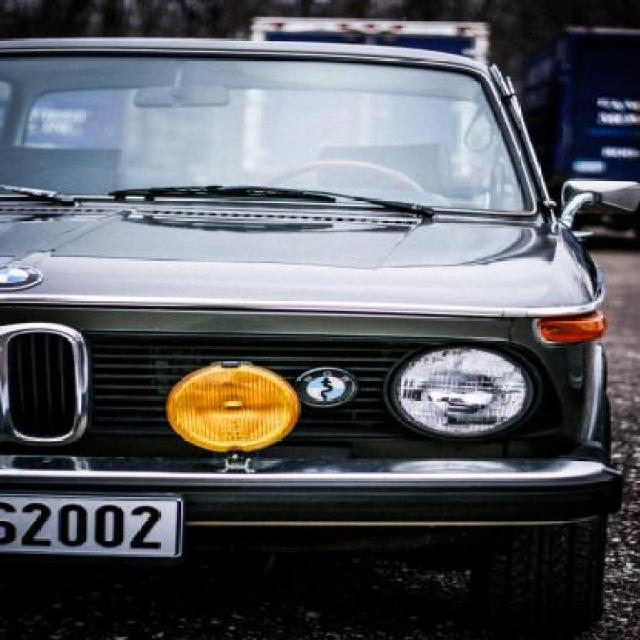License-Plates: (0, 490, 182, 562)
